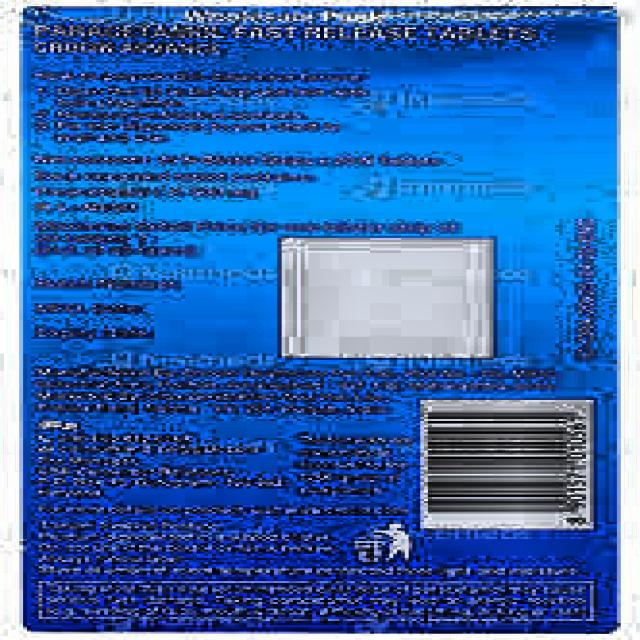Paracetamol: (23, 12, 573, 76)
